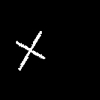single_crochet: (16, 31, 44, 69)
